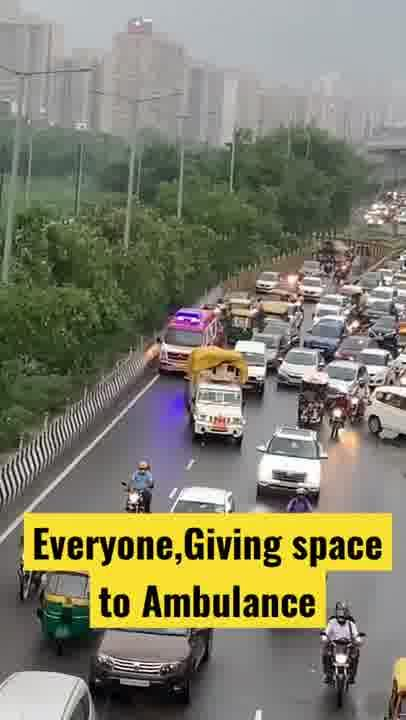AMBULANCE: (162, 303, 220, 347)
